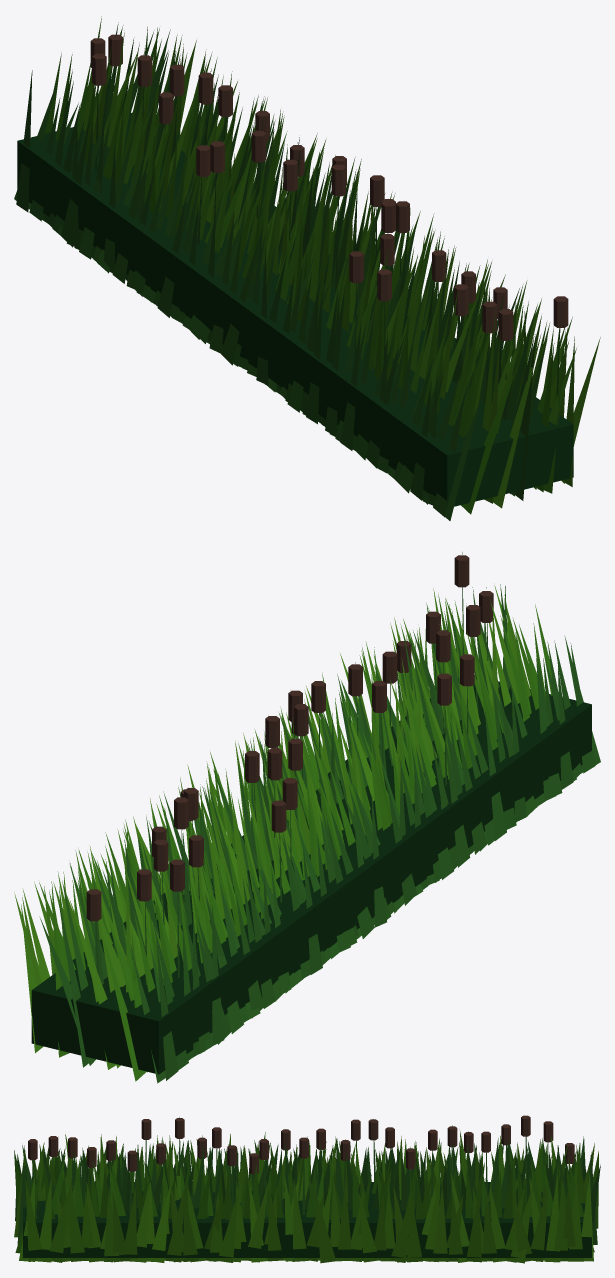
Rendered from reed_wall.gltf.
3 views of the same model, one above another, from view 1: azimuth 30°, elevation 25°; view 2: azimuth 150°, elevation 25°; view 3: azimuth 270°, elevation 25° (orthographic). The views are drawn at different scales.
Visible parts, largest first — view 1: reed_wall; view 2: reed_wall; view 3: reed_wall.
Part boxes in pixels (x1,y1,x2,y2): reed_wall: (14,16,600,520); reed_wall: (14,552,600,1083); reed_wall: (14,1115,600,1263).
Bounding box in the file's own units: 1.22 × 1.31 × 5.47.
